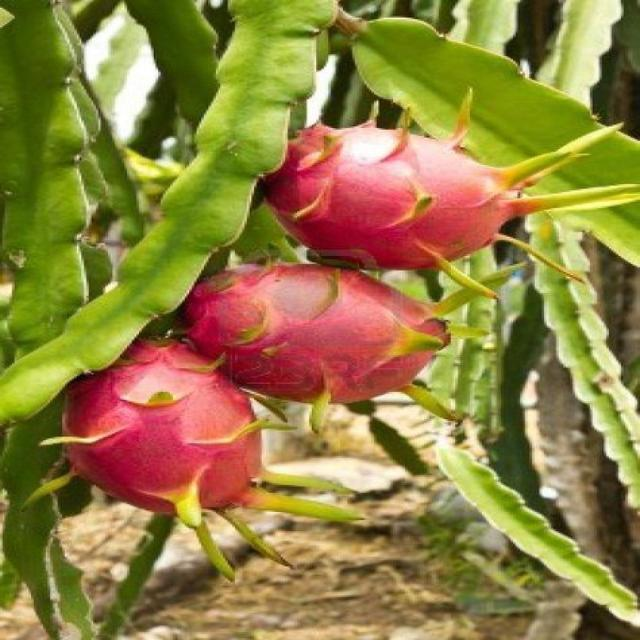Thanh Long: (263, 108, 640, 288), (34, 352, 332, 572), (184, 260, 463, 422)
